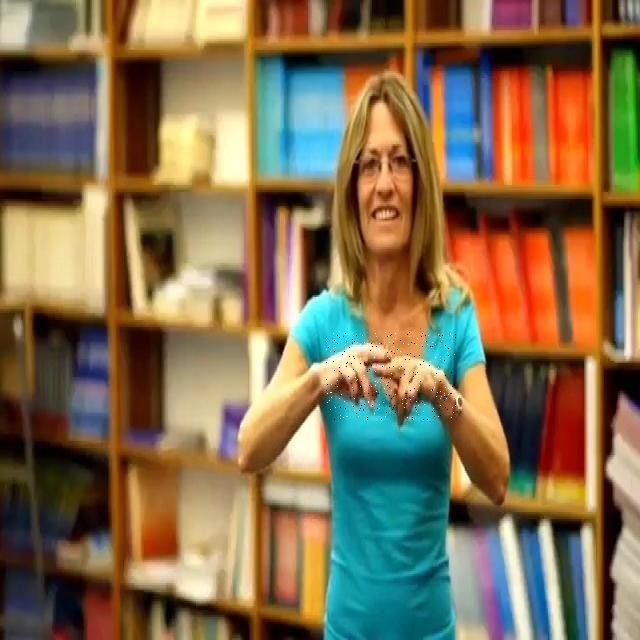salt: (326, 332, 456, 420)
